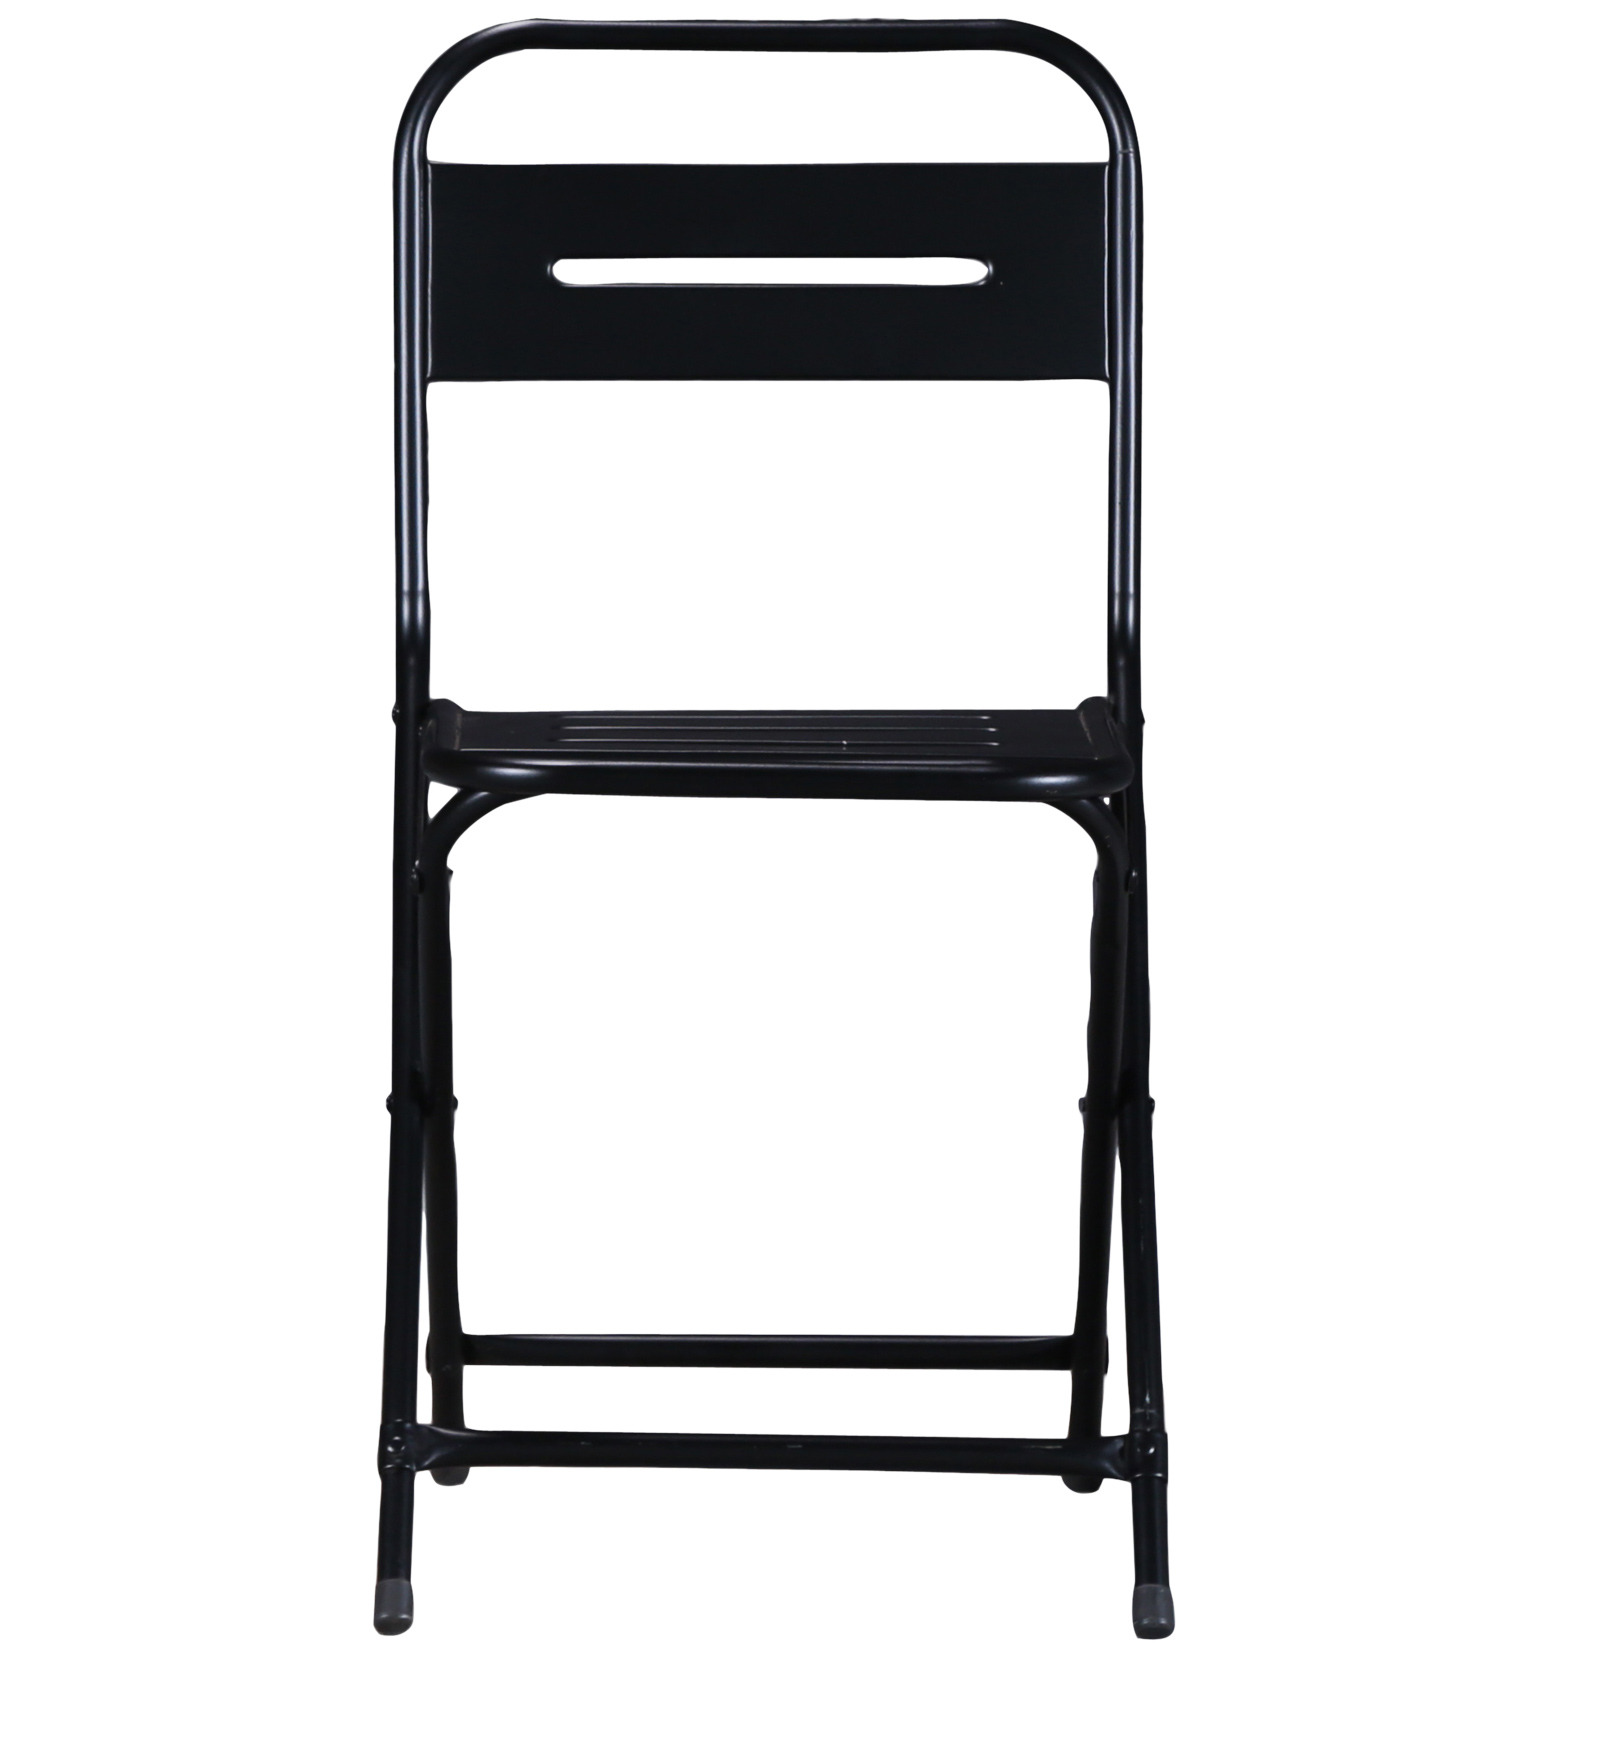Marandoo Grunge Black Outdoor Folding Chair by Bohemiana: (375, 14, 1192, 1633)
